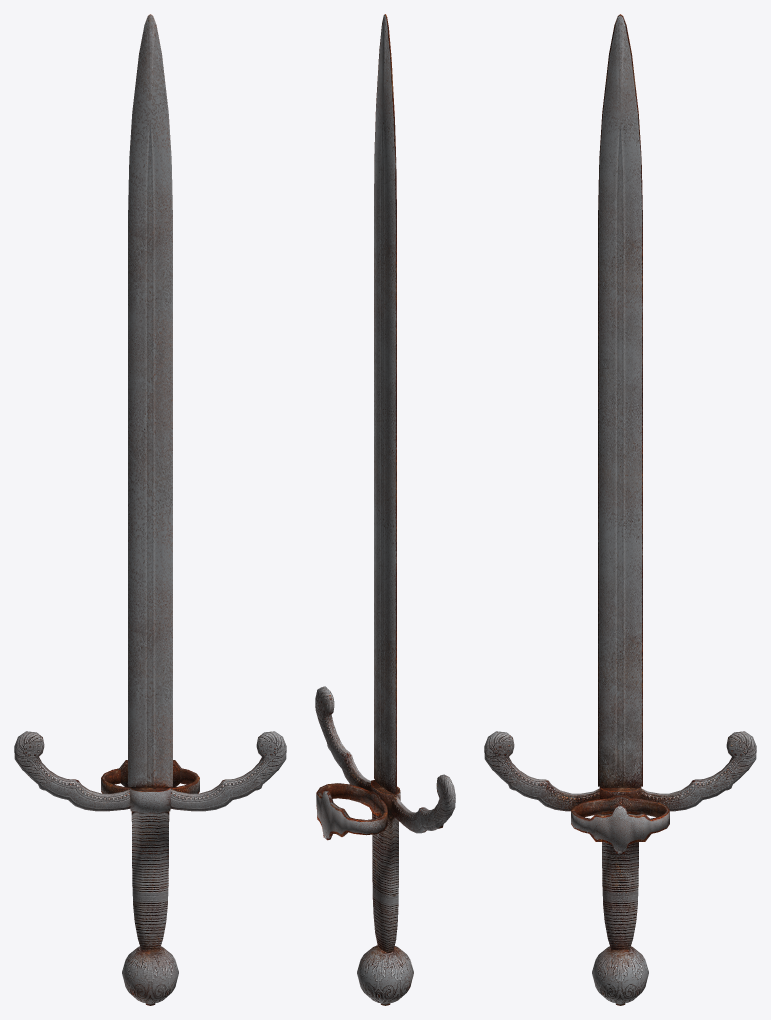
Rendered from SM_SwordA.FBX.
3 renders of one model, left to right at view 1: azimuth 90°, elevation 25°; view 2: azimuth 210°, elevation 25°; view 3: azimuth 270°, elevation 25°, orthographic.
Parts seen in each view (by area): view 1: SM_SwordA_LOD0; view 2: SM_SwordA_LOD0; view 3: SM_SwordA_LOD0.
Part boxes in pixels (x1,y1,x2,y2): SM_SwordA_LOD0: [14, 14, 286, 1005]; SM_SwordA_LOD0: [315, 14, 455, 1005]; SM_SwordA_LOD0: [484, 14, 756, 1005].
Size of what is drawn, in the model's own units: 11.4 by 127 by 31.78.
